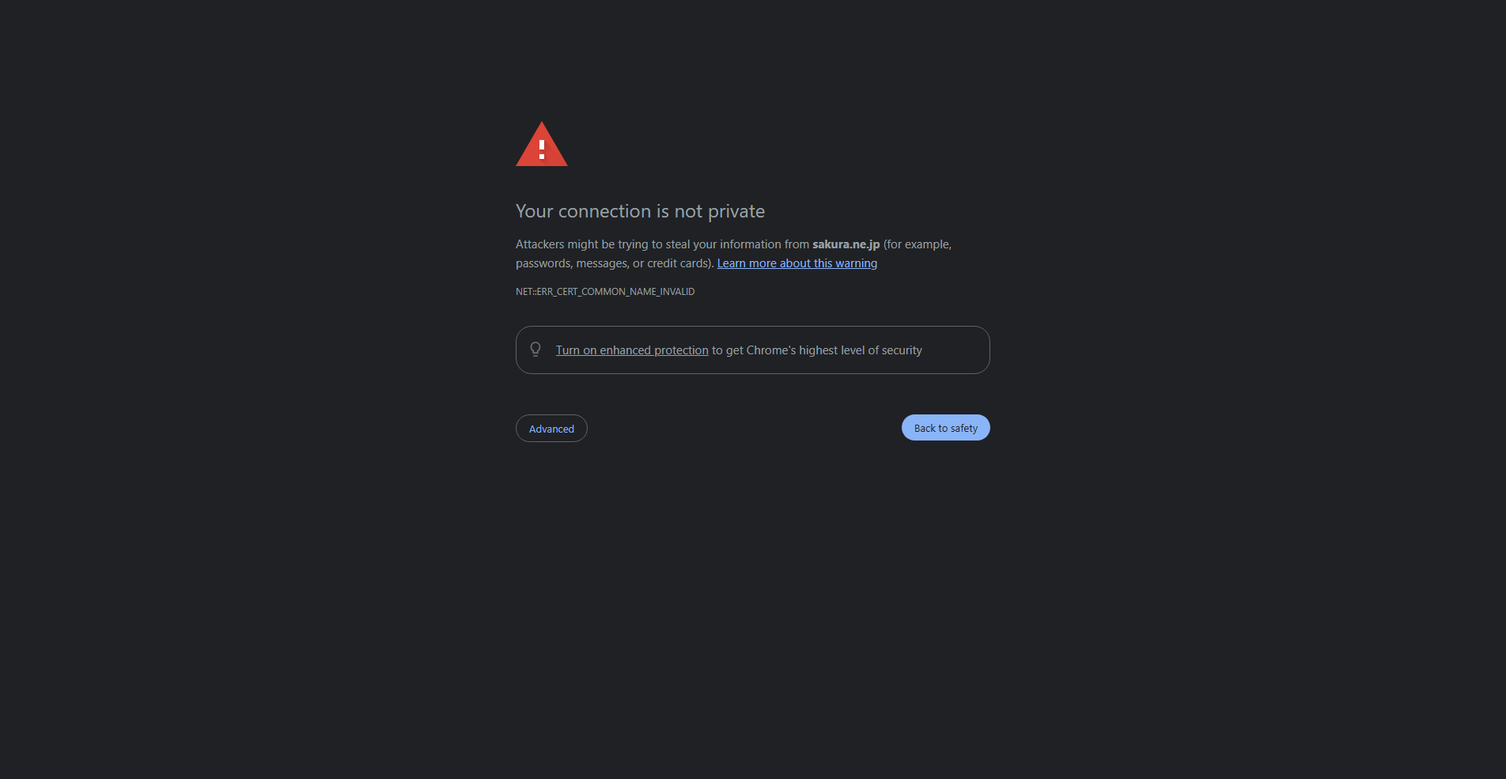button: (516, 281, 990, 300), (902, 414, 990, 440), (516, 414, 588, 442)
label: (520, 334, 986, 365)
link: (556, 342, 709, 358), (717, 255, 878, 270)
